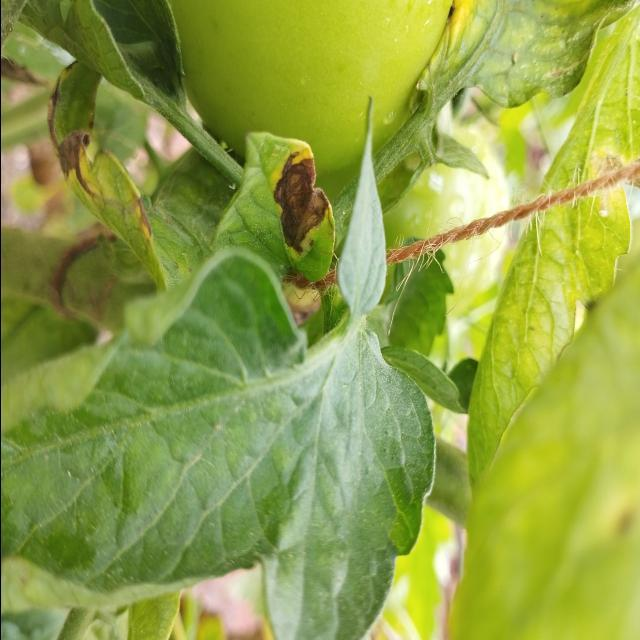Tomato mosaic virus leaf: (202, 117, 342, 301)
